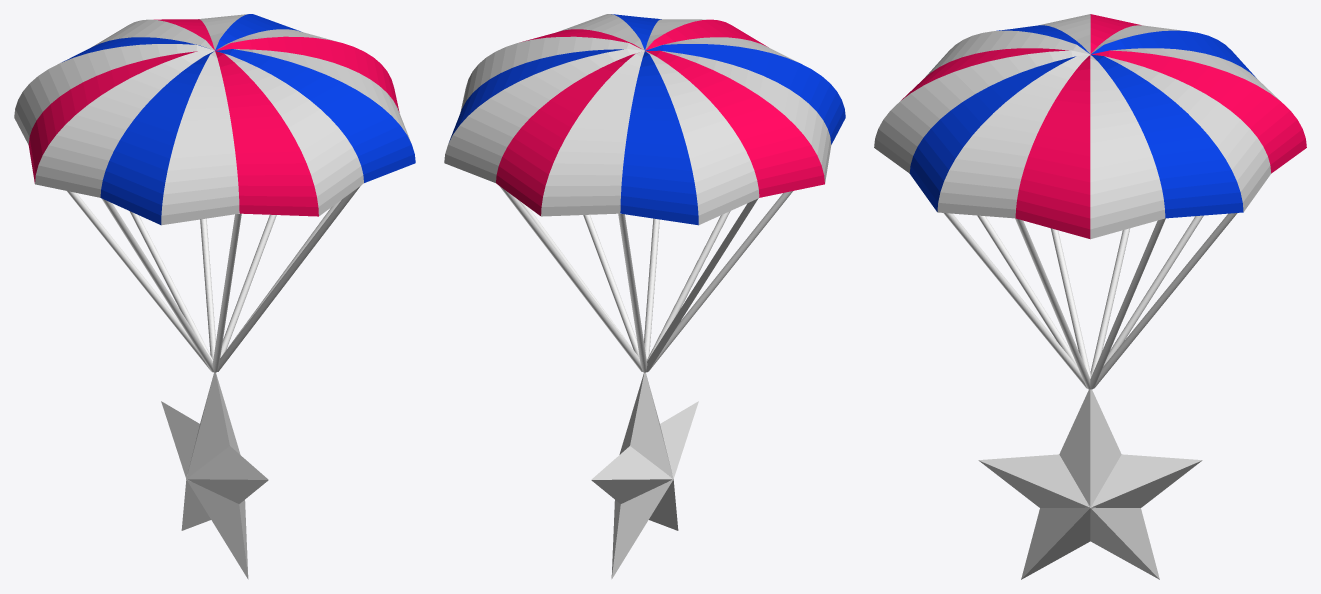
File: ParachutePlayer.dae
3 views of the same model, side by side, from view 1: azimuth 30°, elevation 25°; view 2: azimuth 150°, elevation 25°; view 3: azimuth 270°, elevation 25° (orthographic). The views are drawn at different scales.
Visible parts, largest first — view 1: Sphere.001, Cube.012, Cube.008, Cube.011, Cylinder.015, Cylinder.018, Cylinder.017, Cube.009, Cylinder.014, Cylinder.011, Cylinder.012, Cylinder.013 (+2 smaller); view 2: Sphere.001, Cube.009, Cube.008, Cube.010, Cylinder.013, Cylinder.017, Cylinder.018, Cube.012, Cylinder.012, Cylinder.019, Cylinder.014, Cylinder.015 (+2 smaller); view 3: Sphere.001, Cube.017, Cube.013, Cube.016, Cube.015, Cube.014, Cylinder.013, Cylinder.015, Cylinder.011, Cylinder.019, Cylinder.012, Cylinder.014 (+2 smaller).
Boxes of the visible parts, bbox=[...] form: Sphere.001: bbox=[14, 14, 415, 225]; Cube.012: bbox=[186, 446, 268, 503]; Cube.008: bbox=[186, 372, 229, 480]; Cube.011: bbox=[186, 474, 248, 579]; Cylinder.015: bbox=[217, 186, 360, 371]; Cylinder.018: bbox=[67, 191, 210, 370]; Cylinder.017: bbox=[101, 198, 213, 372]; Cube.009: bbox=[161, 401, 199, 481]; Cylinder.014: bbox=[212, 213, 241, 372]; Cylinder.011: bbox=[220, 214, 276, 357]; Cylinder.012: bbox=[129, 211, 212, 361]; Cylinder.013: bbox=[200, 218, 215, 360]; Sphere.001: bbox=[444, 14, 845, 225]; Cube.009: bbox=[591, 446, 673, 503]; Cube.008: bbox=[630, 372, 673, 480]; Cube.010: bbox=[611, 474, 673, 579]; Cylinder.013: bbox=[499, 186, 642, 371]; Cylinder.017: bbox=[649, 191, 792, 370]; Cylinder.018: bbox=[646, 198, 758, 372]; Cube.012: bbox=[660, 401, 698, 481]; Cylinder.012: bbox=[618, 213, 647, 372]; Cylinder.019: bbox=[583, 214, 639, 357]; Cylinder.014: bbox=[647, 211, 730, 361]; Cylinder.015: bbox=[644, 218, 659, 360]; Sphere.001: bbox=[874, 14, 1306, 239]; Cube.017: bbox=[1059, 389, 1121, 512]; Cube.013: bbox=[978, 454, 1095, 508]; Cube.016: bbox=[1085, 454, 1202, 508]; Cube.015: bbox=[1087, 502, 1159, 579]; Cube.014: bbox=[1021, 502, 1093, 579]; Cylinder.013: bbox=[1094, 213, 1237, 388]; Cylinder.015: bbox=[943, 213, 1086, 388]; Cylinder.011: bbox=[1090, 218, 1165, 389]; Cylinder.019: bbox=[1015, 218, 1090, 389]; Cylinder.012: bbox=[1103, 215, 1203, 366]; Cylinder.014: bbox=[977, 215, 1077, 366].
Bounding box in the file's own units: 5 × 5 × 6.75.
